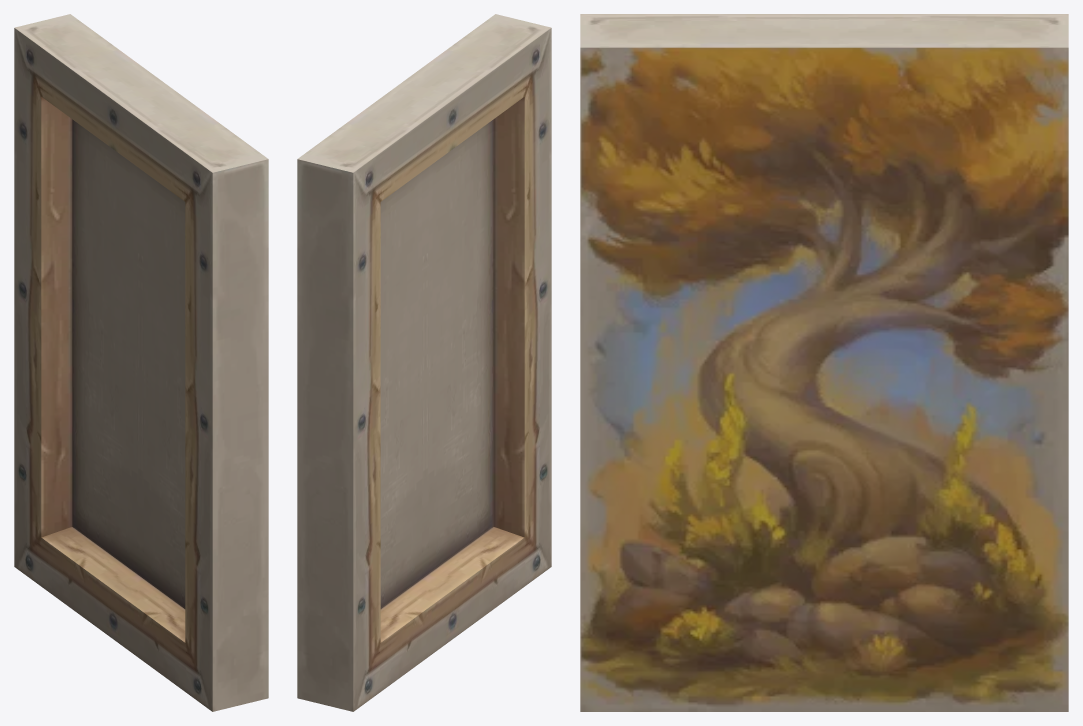
3 renders of one model, left to right at view 1: azimuth 30°, elevation 25°; view 2: azimuth 150°, elevation 25°; view 3: azimuth 270°, elevation 25°, orthographic. The views are drawn at different scales.
Size of the model in its own units: 0.1629 by 1.49 by 0.9964.
1 material, 1 textured.
